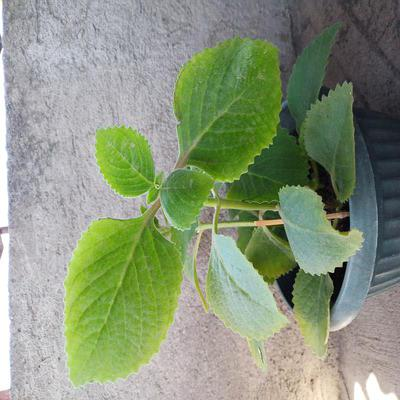Oregano: (70, 66, 353, 370)
